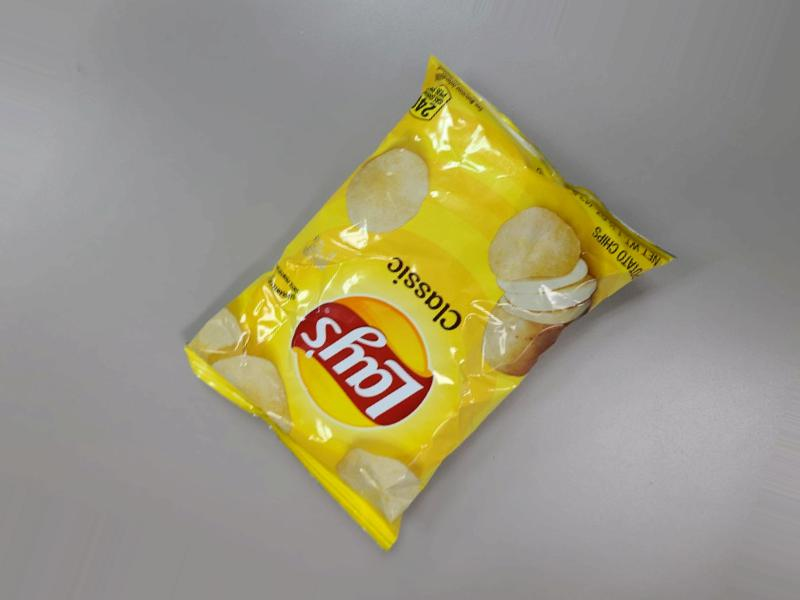lays: (262, 23, 681, 600)
